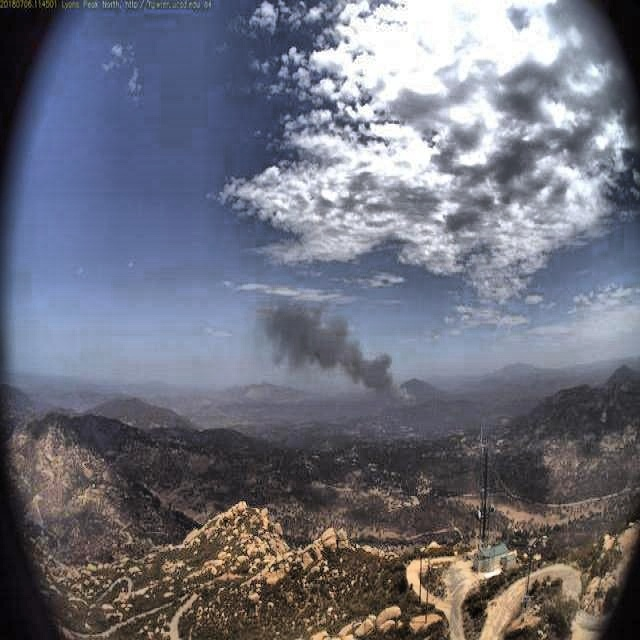smoke: (256, 291, 424, 424)
